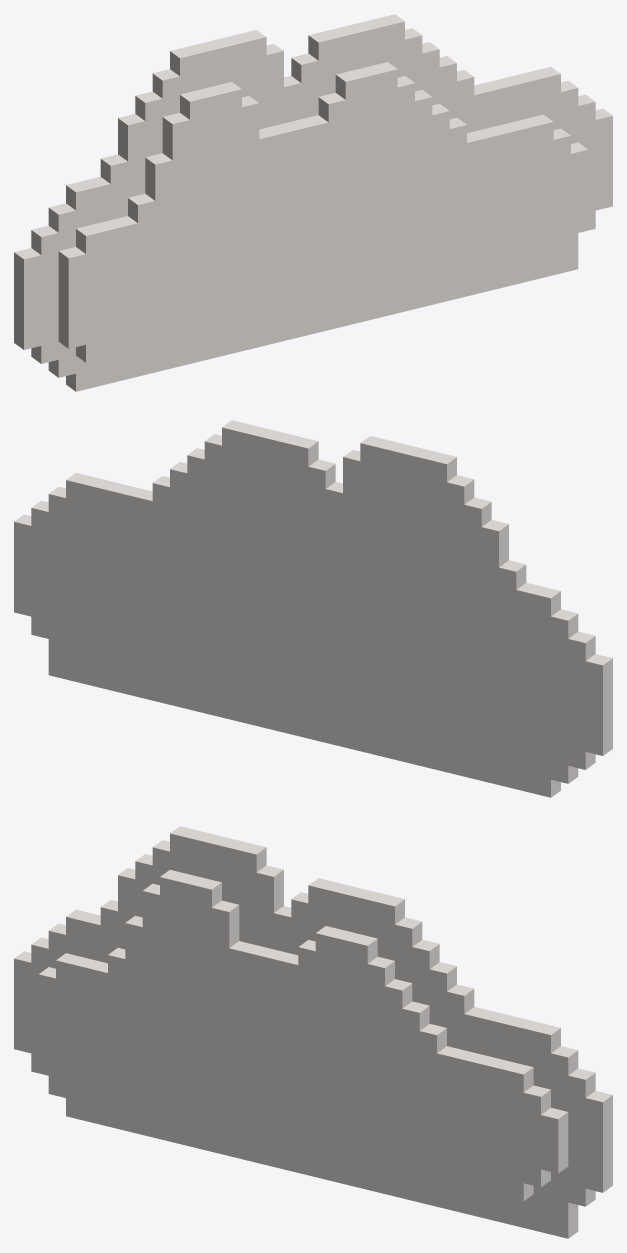
The model's file is cloud-1.glb.
3 renders of one model, top to bottom at view 1: azimuth 30°, elevation 25°; view 2: azimuth 150°, elevation 25°; view 3: azimuth 330°, elevation 25°, orthographic.
Visible parts, largest first — view 1: Polygon; view 2: Polygon; view 3: Polygon.
Part boxes in pixels (x1,y1,x2,y2): Polygon: (14, 14, 612, 391); Polygon: (14, 420, 612, 797); Polygon: (14, 826, 612, 1238).
Bounding box in the file's own units: 3.4 × 1.7 × 0.2.
Materials: 1 (1 with a texture image).
